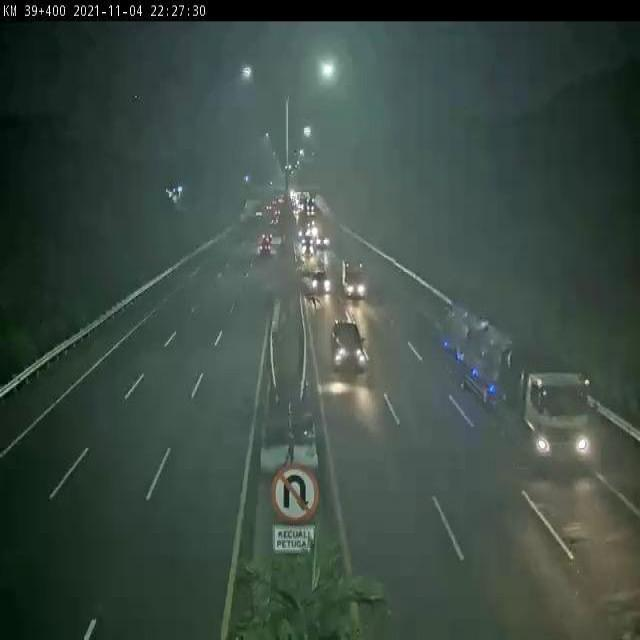car: (328, 319, 367, 376), (309, 262, 332, 298)
truck-m-: (340, 255, 371, 304)
truck-xl-: (441, 306, 590, 462)
